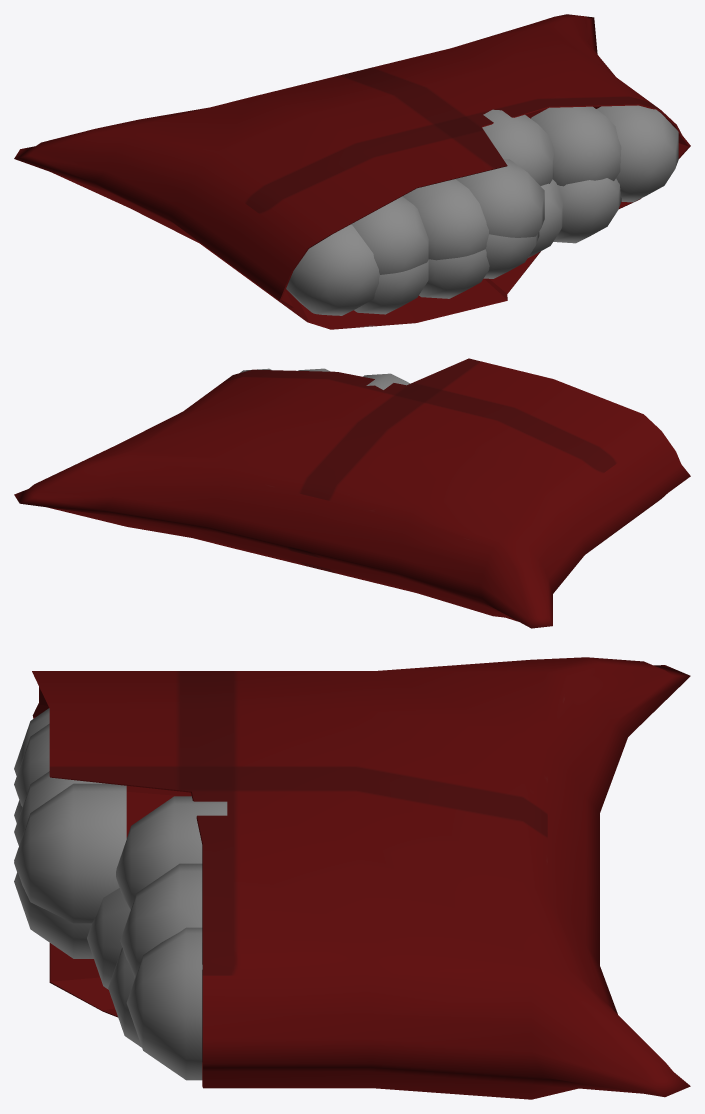
File: ENV_BROKENFUTON.FBX
The picture shows the model from 3 angles, top to bottom: view 1: azimuth 30°, elevation 25°; view 2: azimuth 150°, elevation 25°; view 3: azimuth 270°, elevation 25°; orthographic projection. The views are drawn at different scales.
Visible parts, largest first — view 1: futon; view 2: futon; view 3: futon.
Part boxes in pixels (x1,y1,x2,y2): futon: [14, 14, 690, 329]; futon: [14, 358, 690, 628]; futon: [14, 657, 690, 1099].
Bounding box in the file's own units: 37.91 × 9.28 × 25.1.
1 material, 1 textured.
